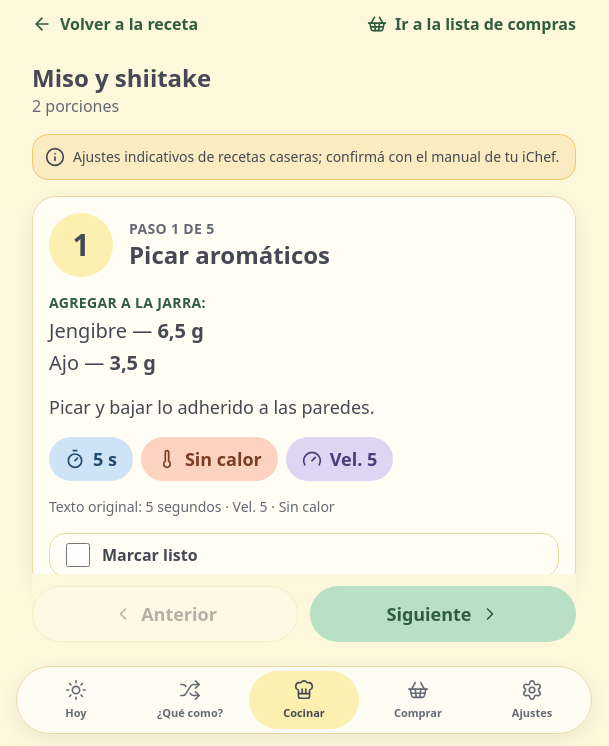
Test case: servings come from the query param and done marks survive moving between steps
Expected: the text "2 porciones" is shown, [32,95,119,117]
Click the checkbox labelled "Marcar listo" at (78, 555), box [66,543,90,567]
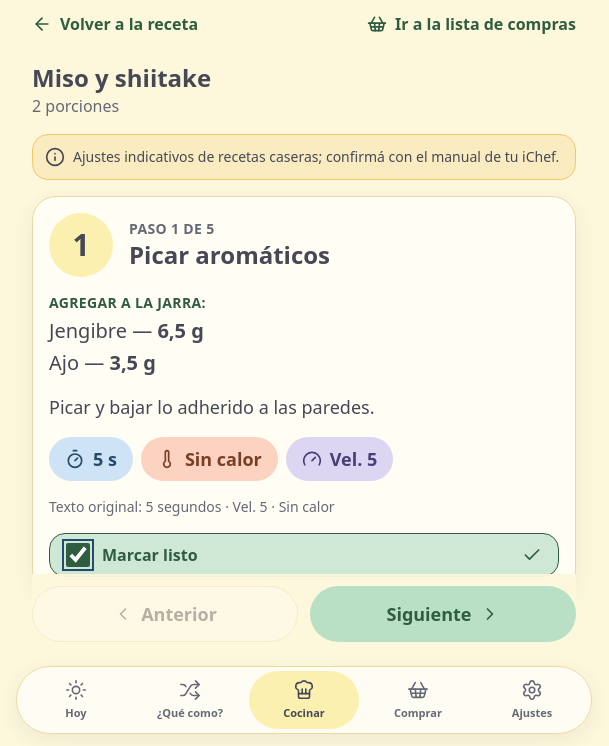
Click the button "Siguiente" at (443, 614), box [310,586,576,642]
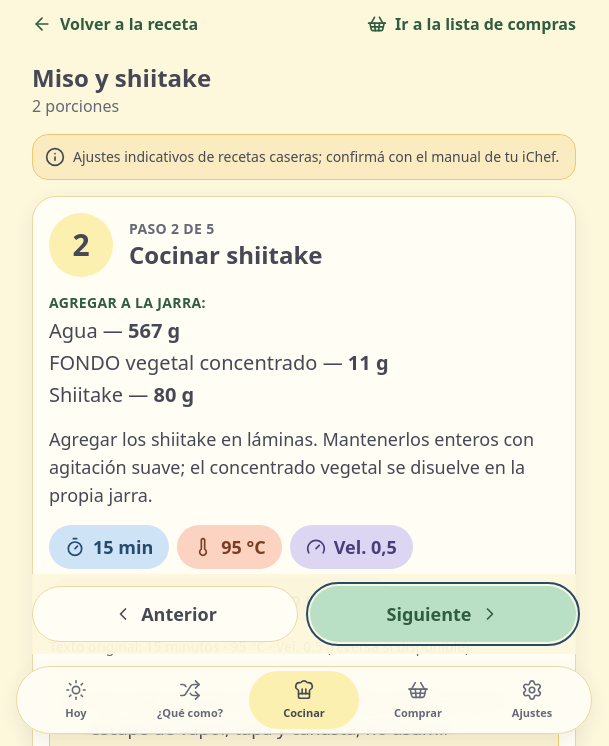
Click the button "Anterior" at (165, 614), box [32,586,298,642]
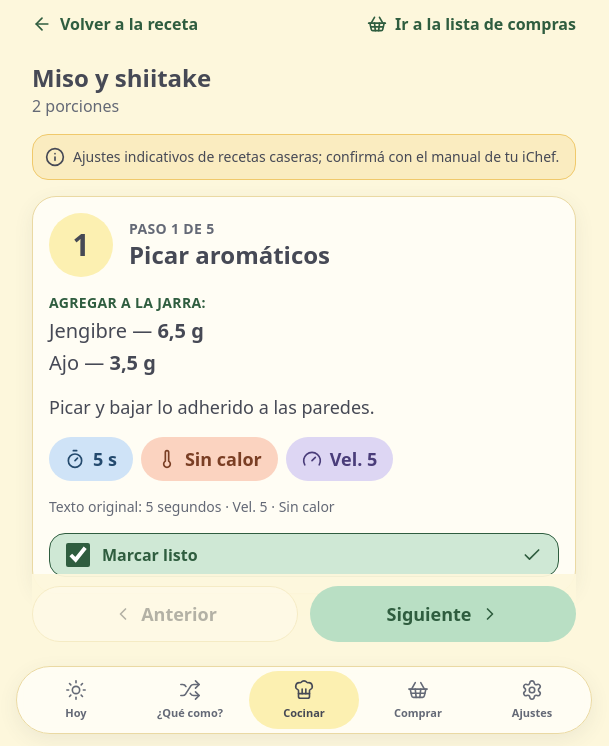
Expected: the checkbox labelled "Marcar listo" is checked, [66,543,90,567]
